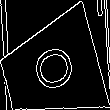O_W: (25, 41, 77, 98)
